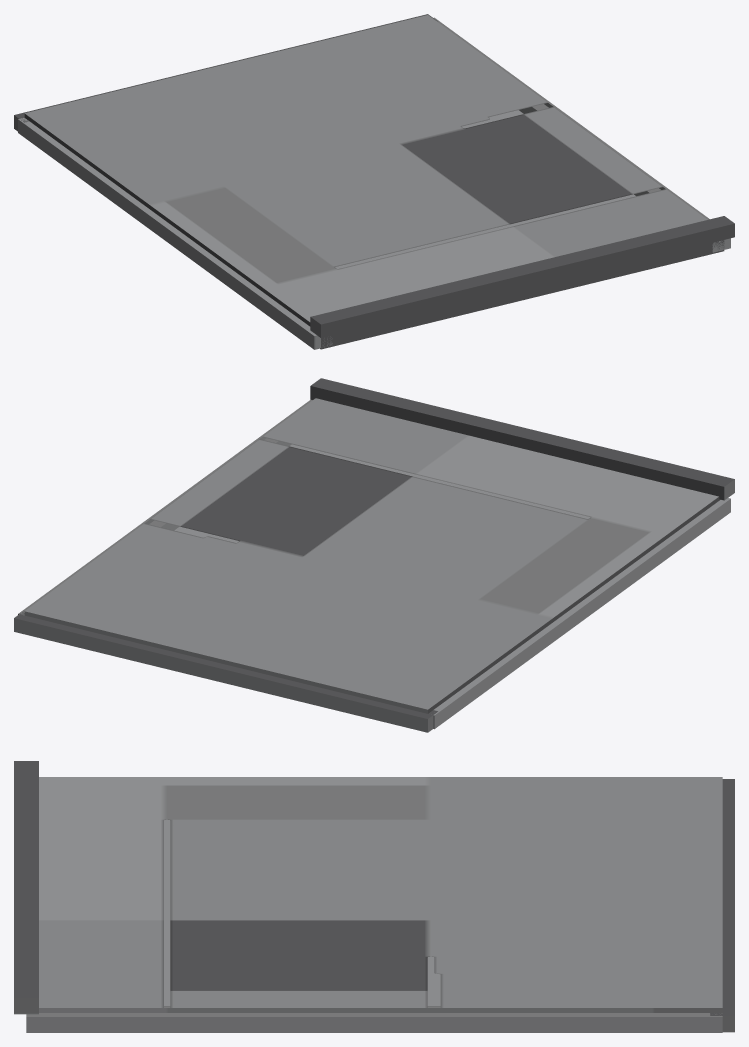
3 renders of one model, top to bottom at view 1: azimuth 30°, elevation 25°; view 2: azimuth 150°, elevation 25°; view 3: azimuth 270°, elevation 25°, orthographic. The views are drawn at different scales.
Size of the model in its own units: 0.8586 by 0.0594 by 1.1.
